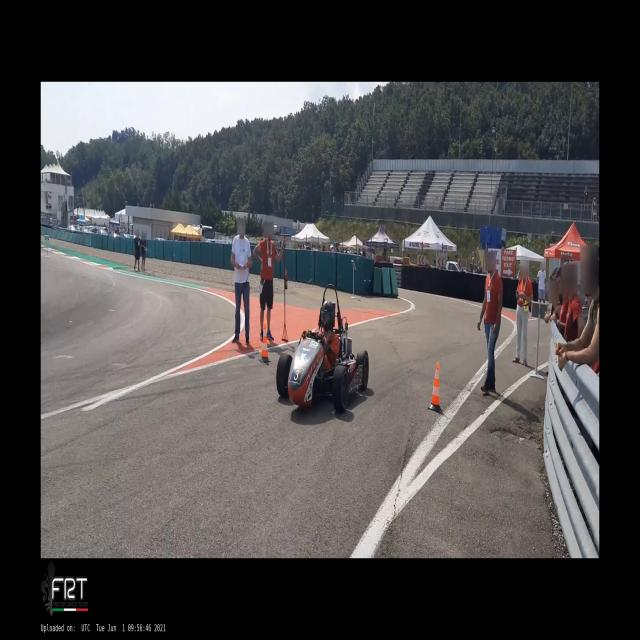large_orange_cone: (428, 362, 442, 412), (259, 324, 271, 363)
